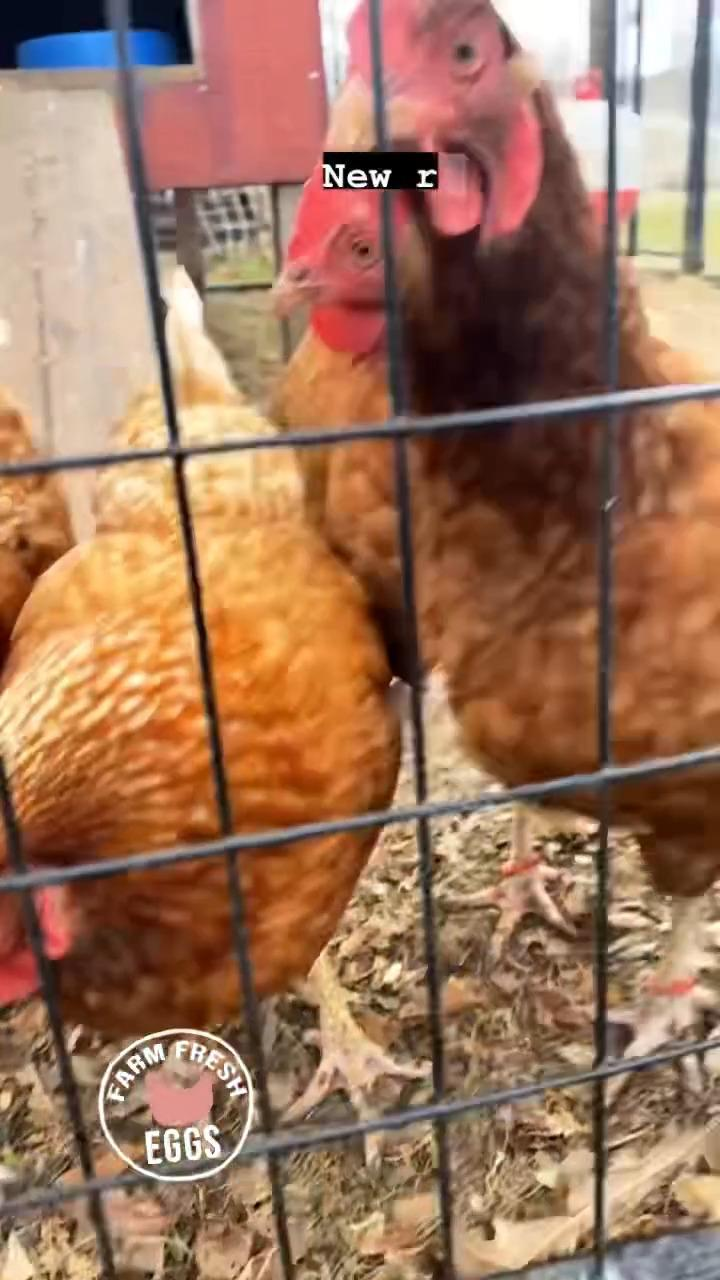rooster: (319, 0, 719, 1105), (0, 268, 429, 1149), (265, 154, 573, 955), (0, 378, 78, 998)
